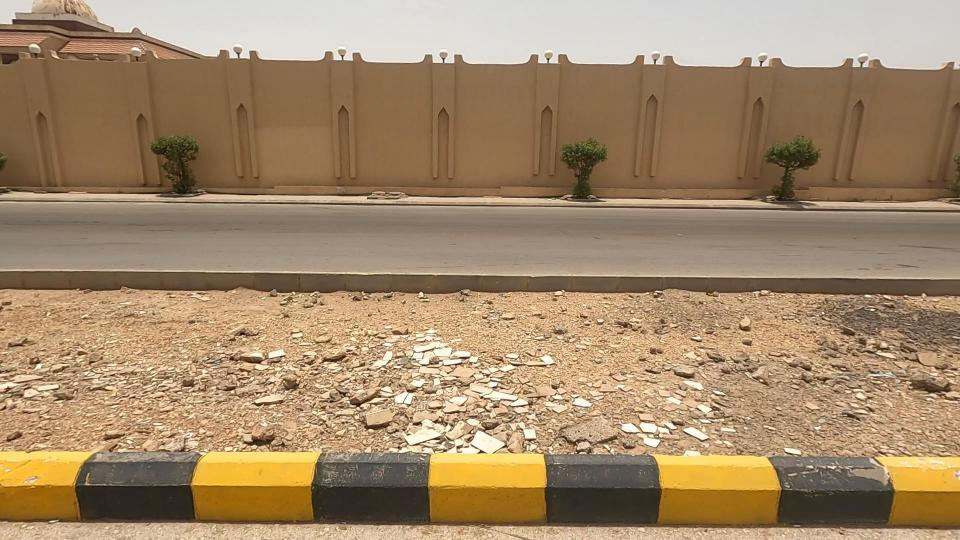CLUTTER_SIDEWALK: (306, 194, 960, 537), (0, 192, 634, 540)
